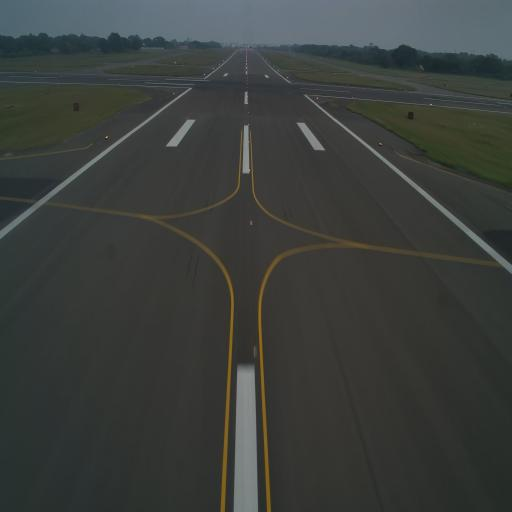on: (251, 342, 259, 360), (104, 131, 110, 140), (248, 217, 252, 230), (247, 165, 251, 174), (378, 140, 382, 148), (247, 139, 251, 144), (247, 121, 251, 126)
